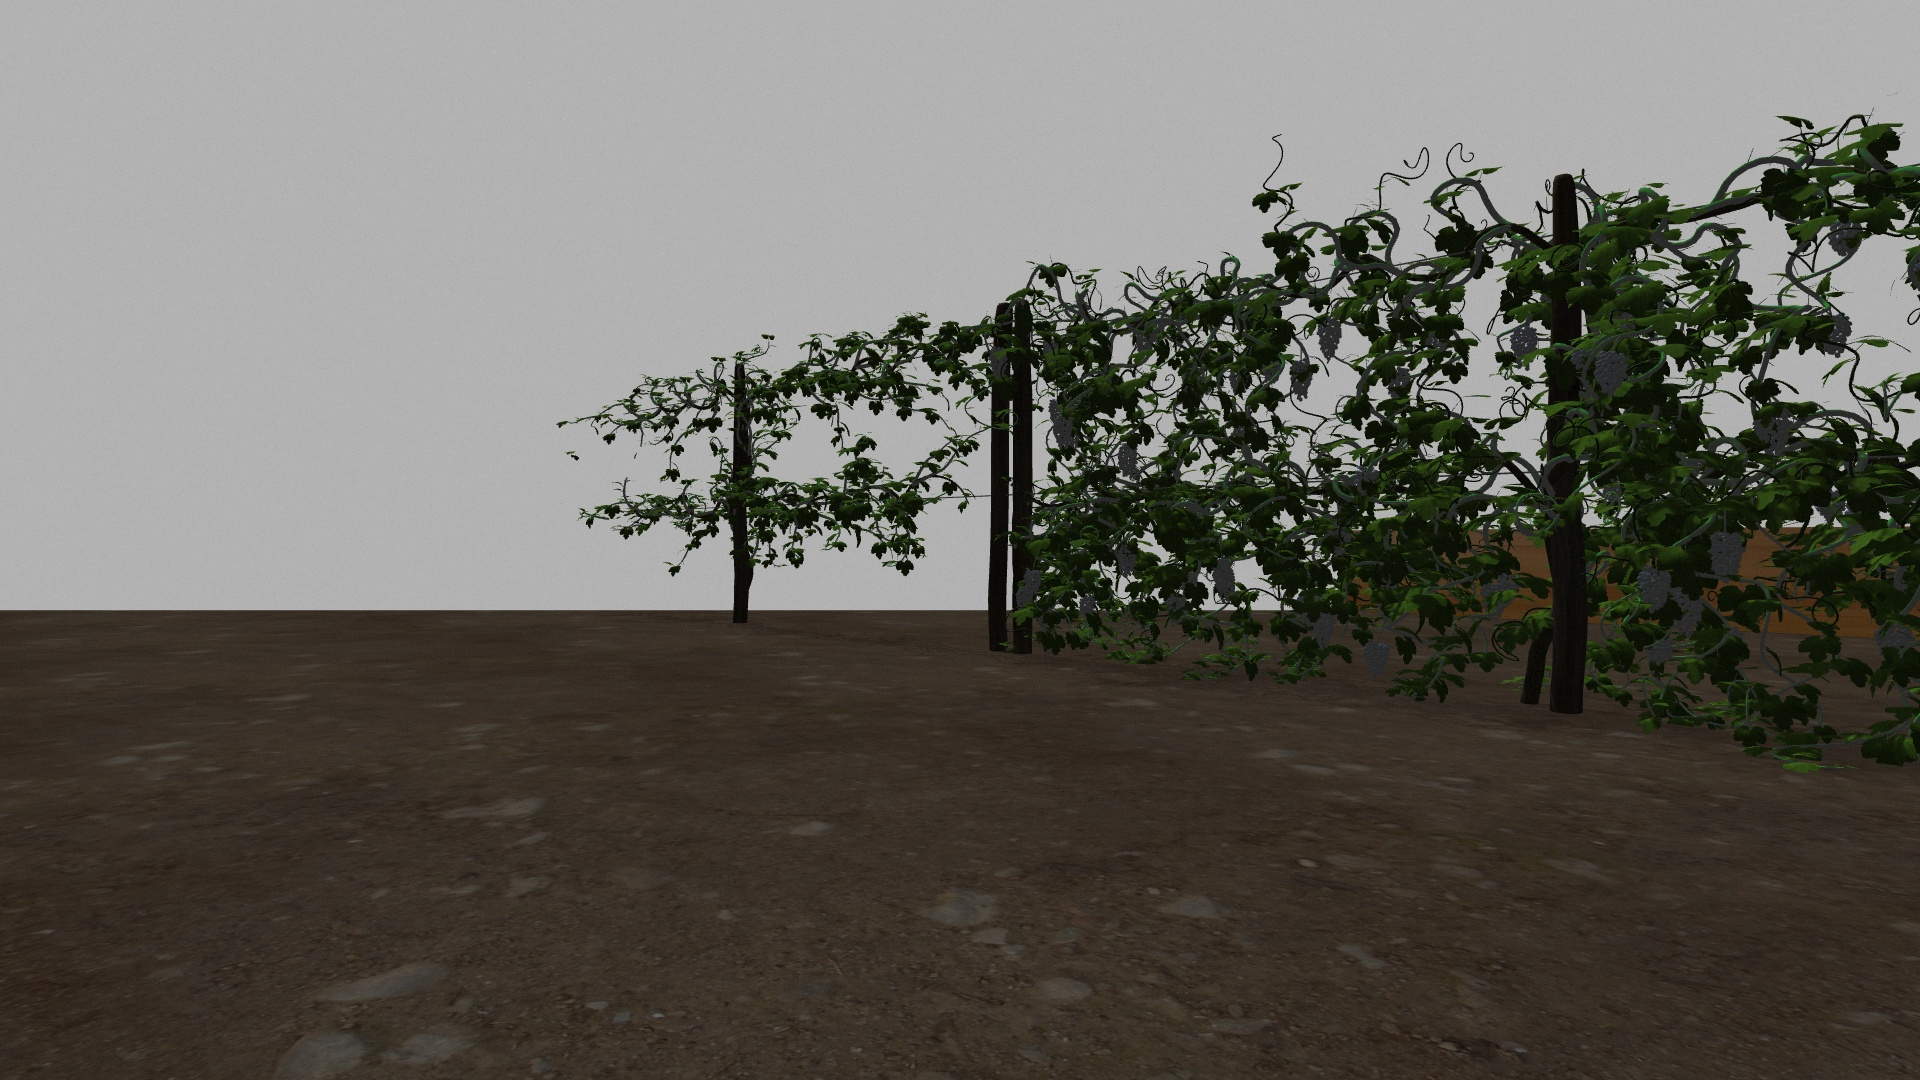grape: (1709, 531, 1745, 583), (1636, 567, 1672, 616), (1593, 349, 1630, 396), (1753, 411, 1789, 452), (1480, 578, 1518, 616), (1876, 621, 1913, 659), (1822, 313, 1851, 359), (1826, 222, 1862, 257), (1510, 326, 1539, 369), (1673, 593, 1702, 637), (1315, 319, 1342, 363), (1361, 644, 1393, 680), (1211, 559, 1238, 601), (1288, 359, 1313, 402), (1113, 543, 1141, 578), (1313, 612, 1338, 649), (1117, 443, 1139, 477), (1646, 640, 1673, 667), (1054, 415, 1075, 448), (989, 347, 1009, 380), (1025, 568, 1042, 595), (1164, 593, 1187, 613), (1569, 349, 1589, 371), (1015, 588, 1034, 608), (1079, 596, 1097, 615)
